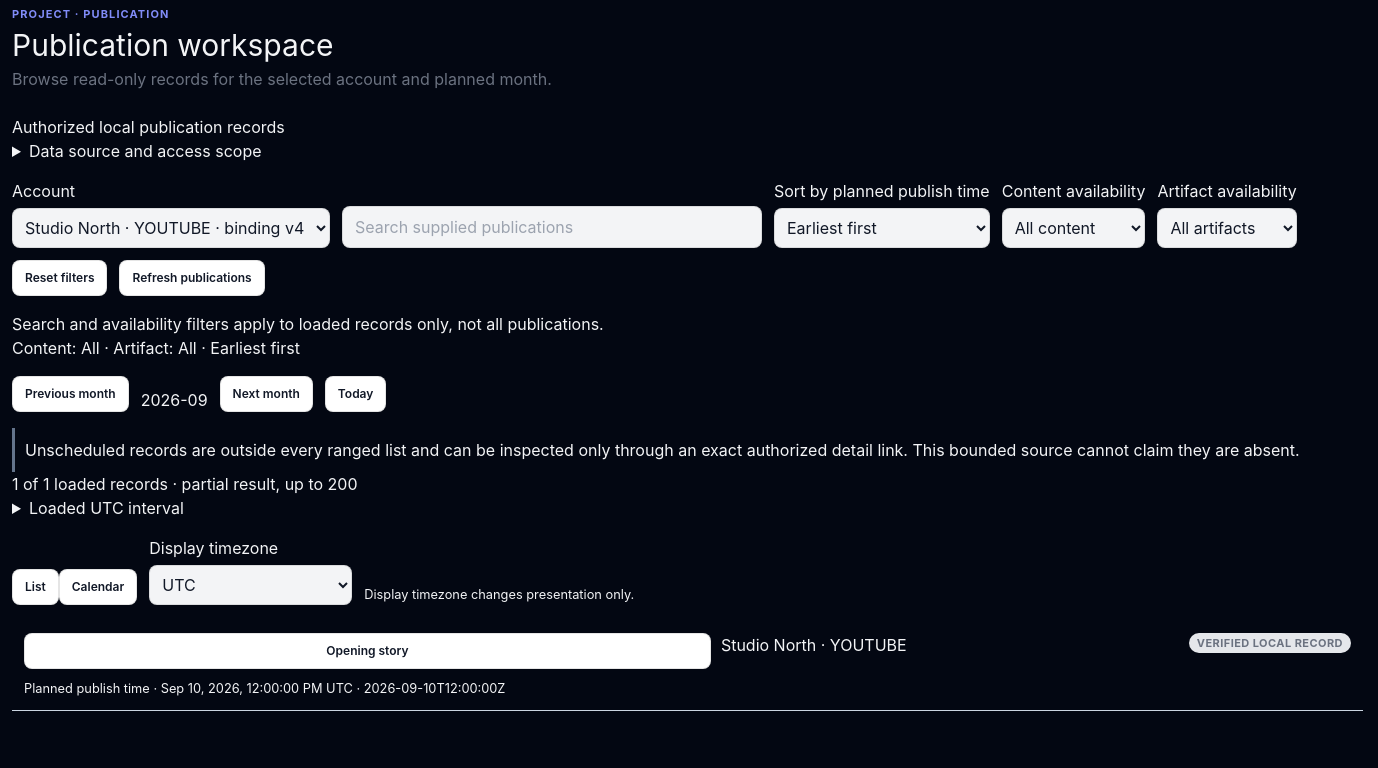
authorized Publication workspace › does not retain old bytes after a transient post error across same-ID binding replacement
Expected: the button "Opening story" is shown, [24,632,711,668]
Step 1. Click the button "Refresh publications" → (192, 278), box [120,260,265,296]
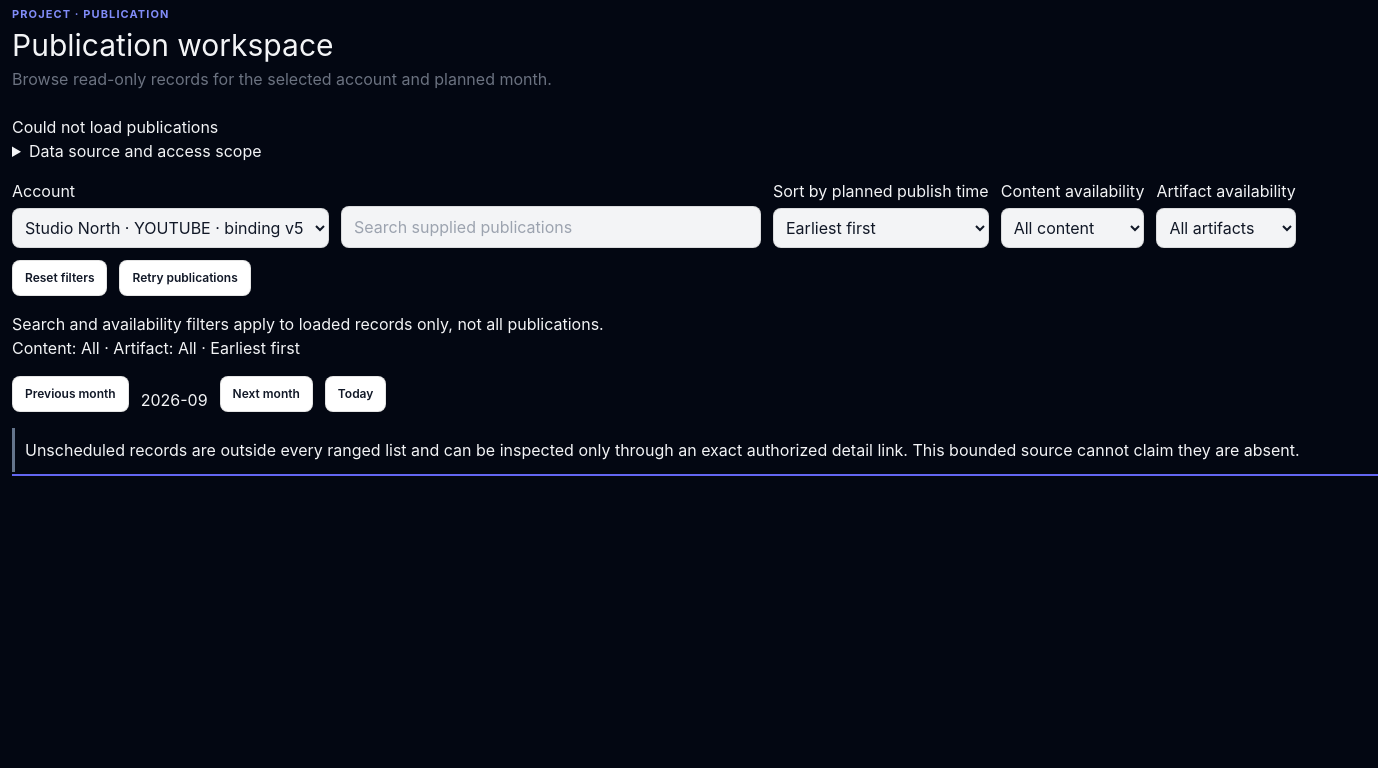
Now the text "Could not load publications" is shown, box [12,116,218,136]
Now the button "Opening story" is gone
